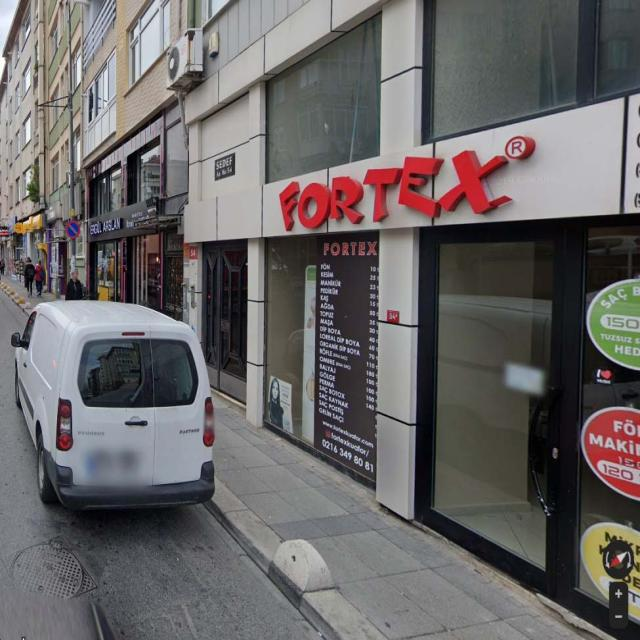parkyasak: (64, 219, 80, 240)
